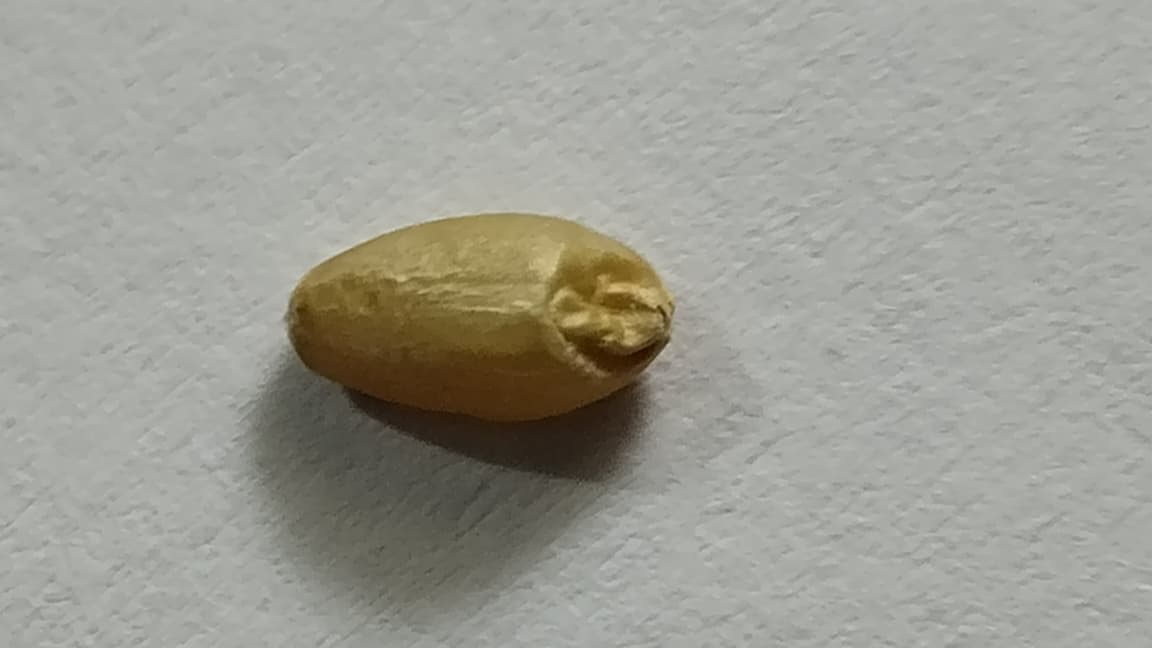healthy: (287, 213, 672, 420)
